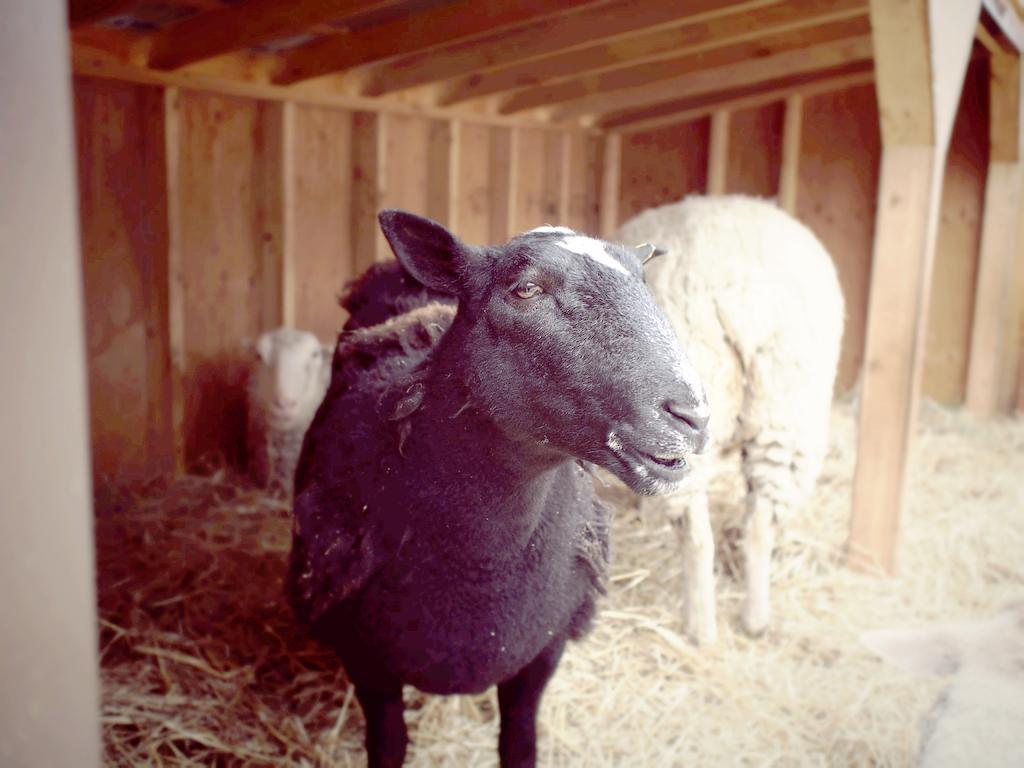Sheep: (276, 204, 707, 768), (598, 195, 848, 636), (242, 331, 346, 502)
